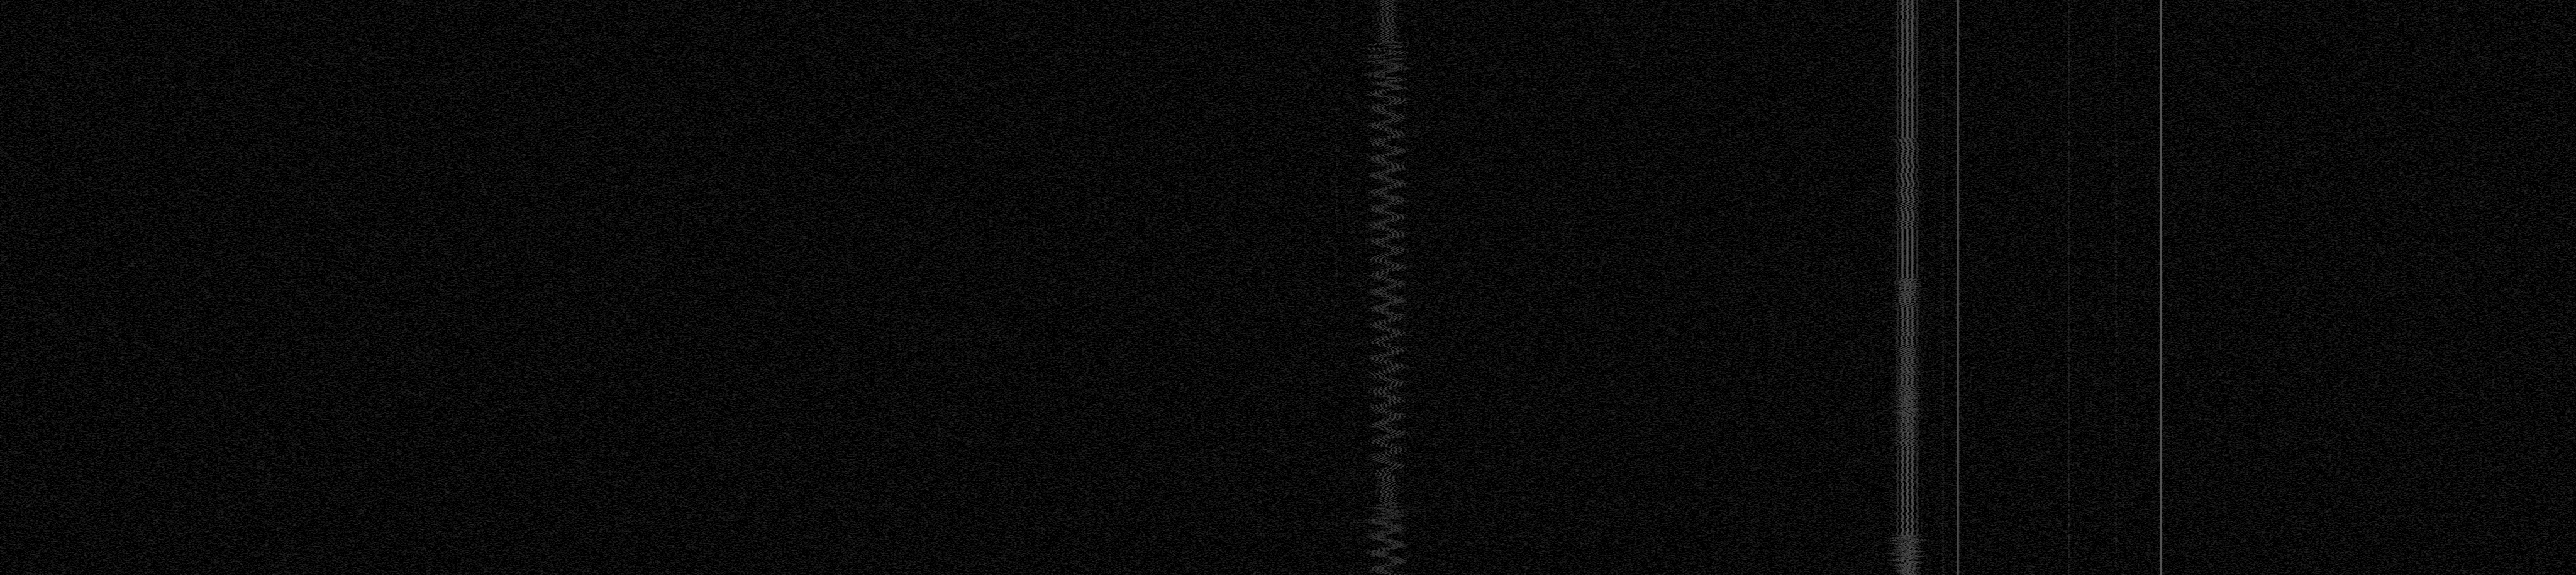wv_am: (1942, 0, 1945, 575), (2067, 149, 2070, 519), (2067, 0, 2070, 136), (2067, 532, 2070, 575), (2067, 521, 2070, 531), (2067, 138, 2070, 148)
wv_cw: (1948, 0, 1966, 575), (2159, 0, 2162, 575)
wv_lsb: (2114, 5, 2118, 222), (2114, 222, 2118, 345), (2114, 457, 2118, 562), (2114, 345, 2118, 432), (2114, 562, 2118, 575), (2114, 445, 2118, 457), (2114, 434, 2118, 444)
wv_usb: (1336, 110, 1337, 242), (1336, 242, 1337, 281), (1334, 332, 1339, 340), (1336, 478, 1337, 498), (1336, 463, 1337, 478), (1336, 554, 1337, 564), (1336, 453, 1337, 463), (1336, 283, 1337, 292), (1336, 506, 1337, 514), (1336, 343, 1337, 352), (1336, 568, 1337, 575), (1336, 442, 1337, 449), (1336, 13, 1337, 20), (1336, 564, 1337, 568), (1336, 501, 1337, 506), (1336, 373, 1337, 378), (1336, 21, 1337, 26), (1336, 549, 1337, 552), (1336, 516, 1337, 519), (1336, 379, 1337, 383), (1336, 361, 1337, 365), (1336, 370, 1337, 371), (1336, 366, 1337, 368), (1336, 360, 1337, 361), (1336, 340, 1337, 342), (1336, 28, 1337, 30)
wv_wbfm: (1360, 0, 1414, 575), (1883, 0, 1932, 575)
